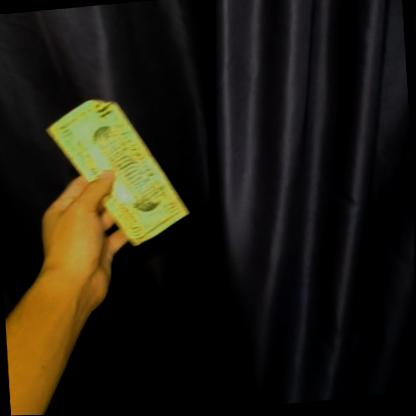ten-back: (43, 91, 194, 257)
